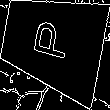P_W: (31, 19, 75, 67)
